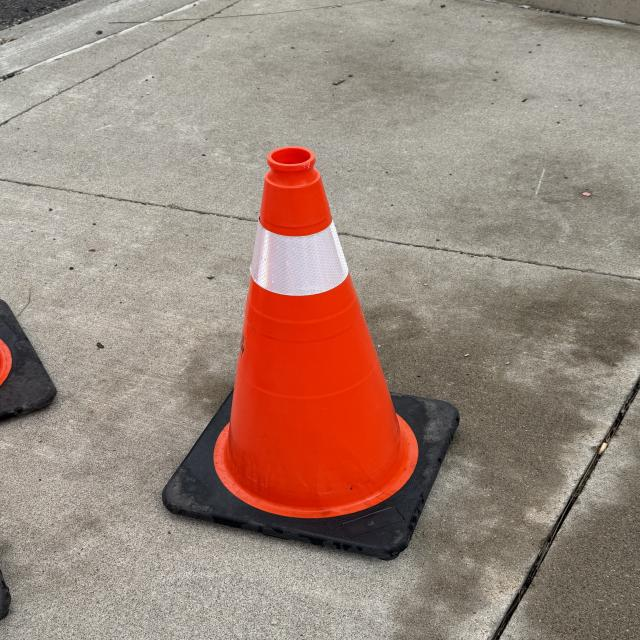Traffic Cone: (163, 147, 459, 558)
